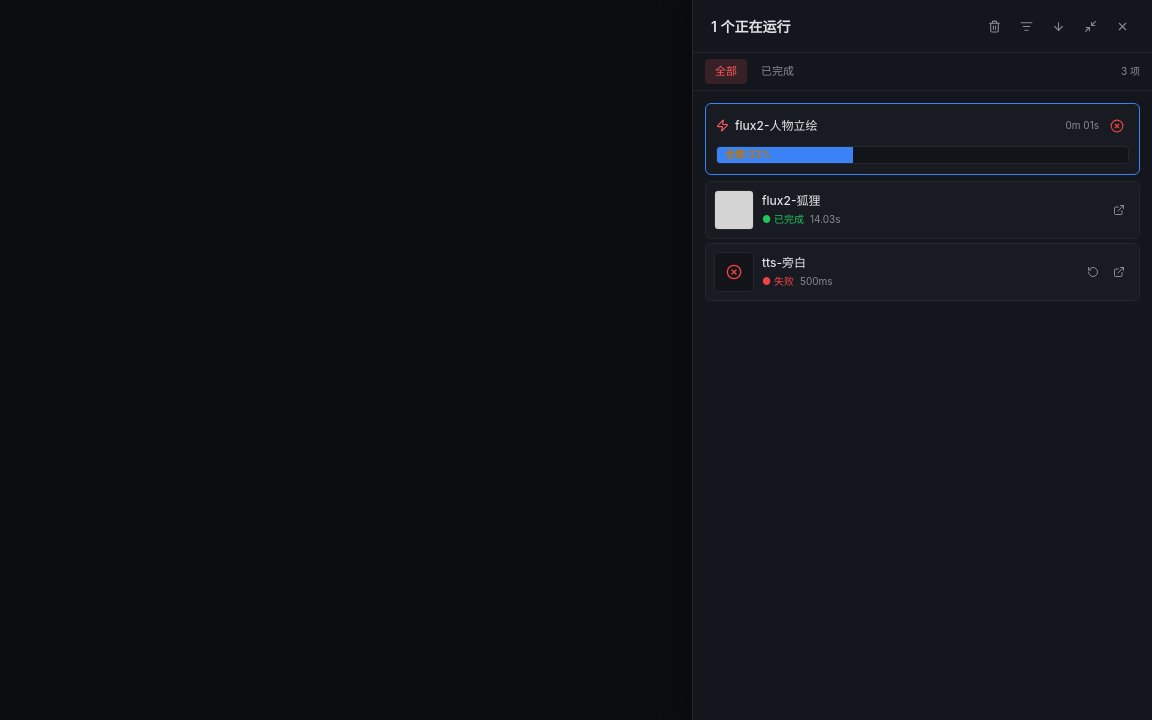
TaskPanel — ComfyUI 对齐(PR-5) › 筛选 popover:取消勾「失败」后 failed 任务被过滤掉
Check: the text "tts-旁白" is shown, box [762,255,806,270]
# 打开筛选 popover,点「失败」复选框反勾。
What coordinates should you click on to do the following:
click the button named "筛选状态"
I would click on:
 (1026, 26)
Its box is [1014,14,1038,38].
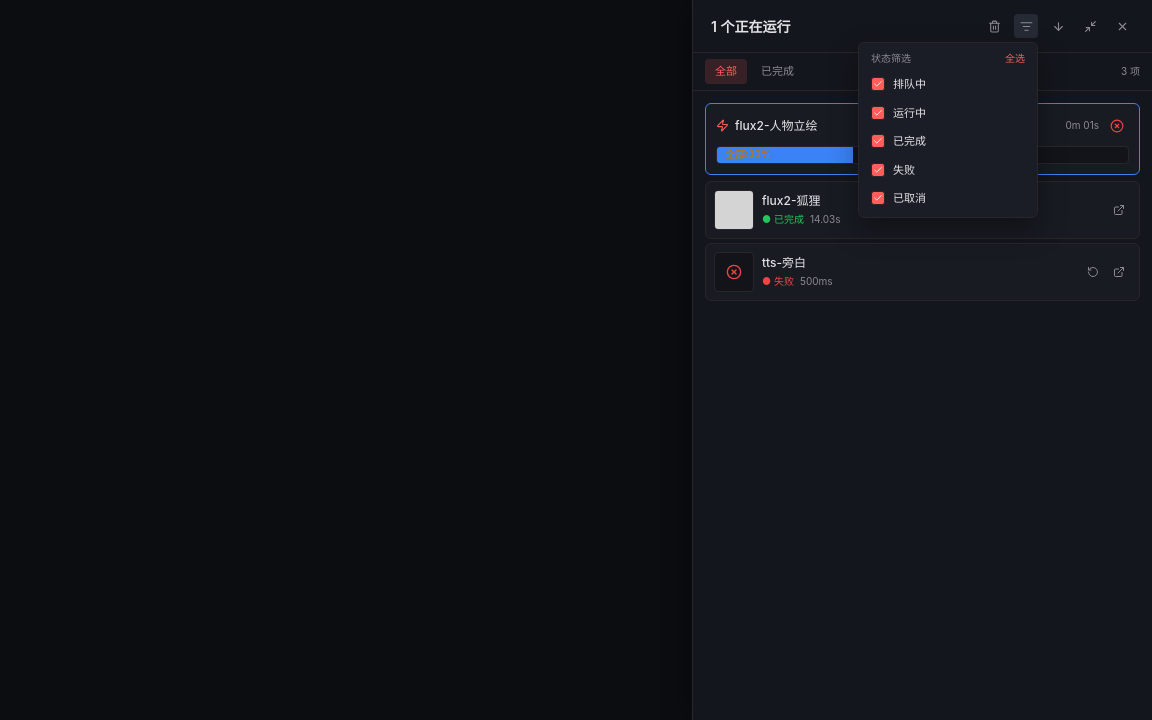
What coordinates should you click on to do the following:
click the menu item "失败"
I would click on:
 (948, 170)
Its box is [863,156,1033,184].
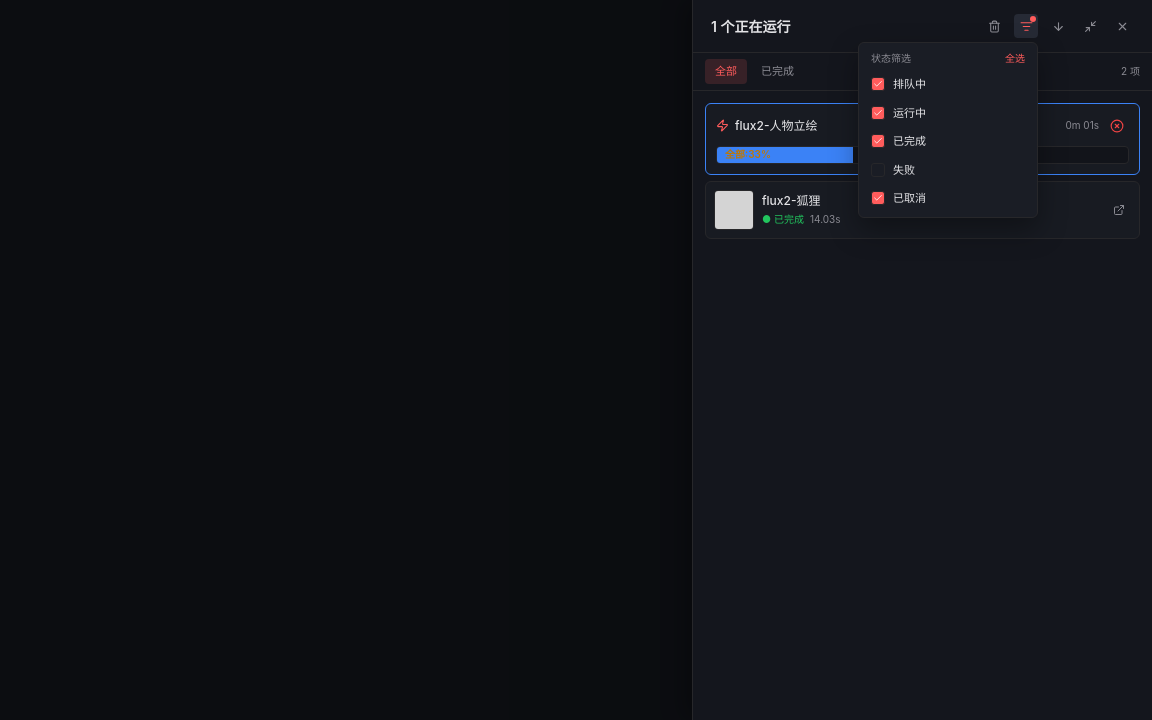
Check: the text "flux2-人物立绘" is shown, box [735,118,817,132]
Check: the text "tts-旁白" is gone
